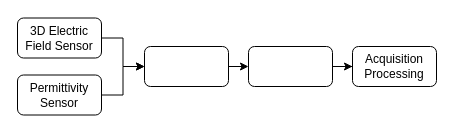
Image size: 454x132. Some labels were removed from this diagram. Each missing label, with the centre of its shape:
"Photoelectric Conversion" belongs at point 290,66.
"Signal Conditioning" belongs at point 186,66.
